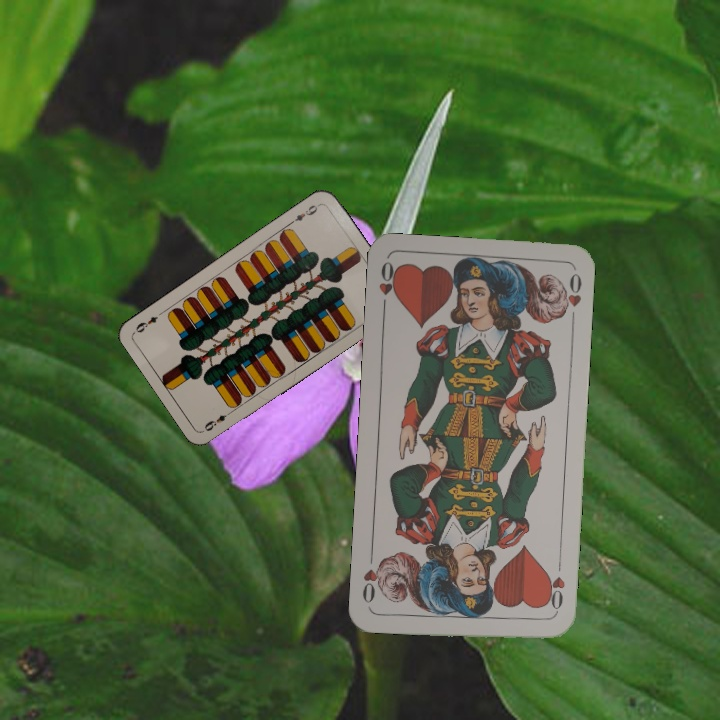E9: (286, 200, 322, 227), (200, 407, 236, 434)
HO: (541, 557, 568, 616), (374, 258, 401, 317)
